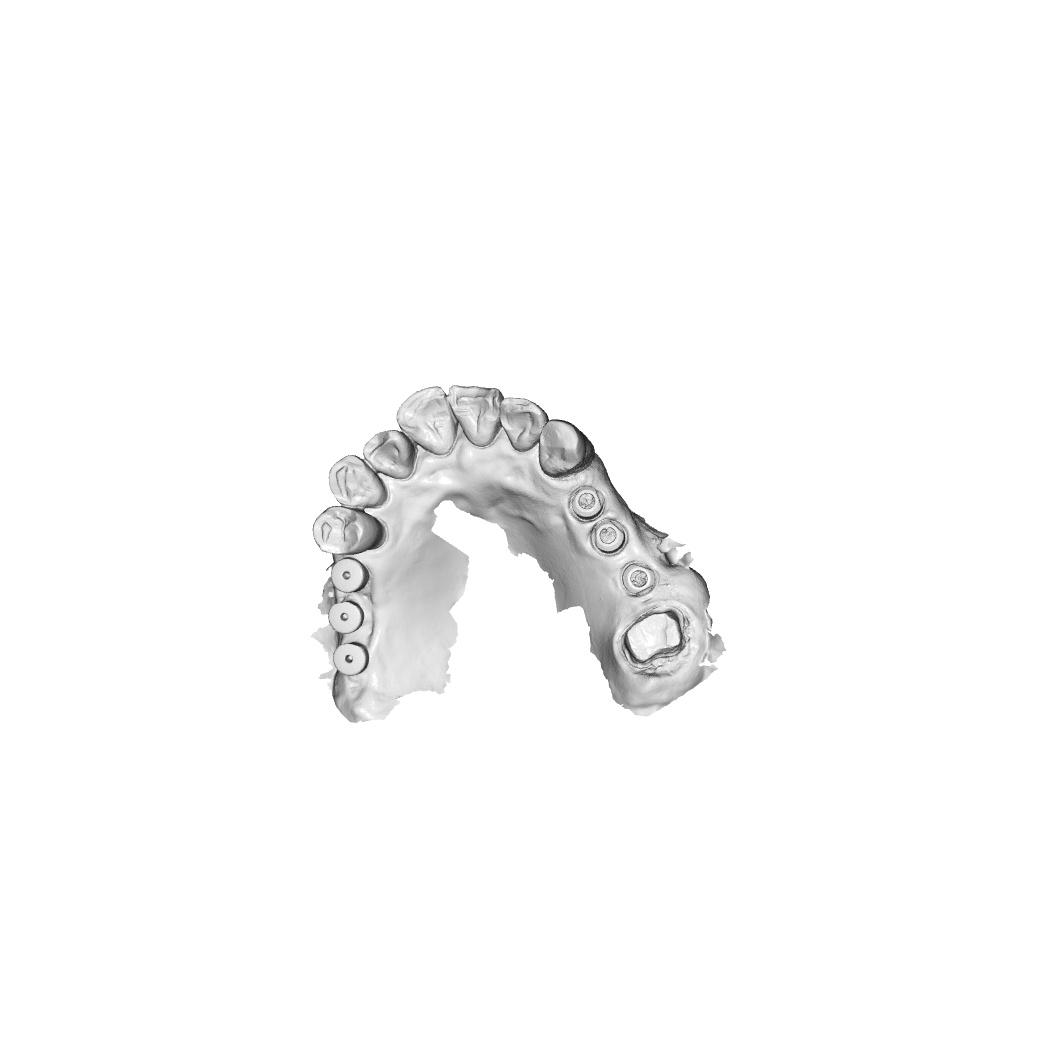canine: (537, 418, 596, 480), (327, 453, 390, 511)
crown: (620, 605, 687, 670)
implant: (567, 484, 607, 522), (330, 557, 370, 594), (591, 518, 628, 556), (332, 641, 370, 677), (328, 599, 365, 635), (621, 561, 657, 598)
incisor: (396, 384, 459, 456), (448, 384, 504, 449), (360, 428, 417, 481), (498, 396, 550, 453)
premolar: (311, 504, 387, 557)
